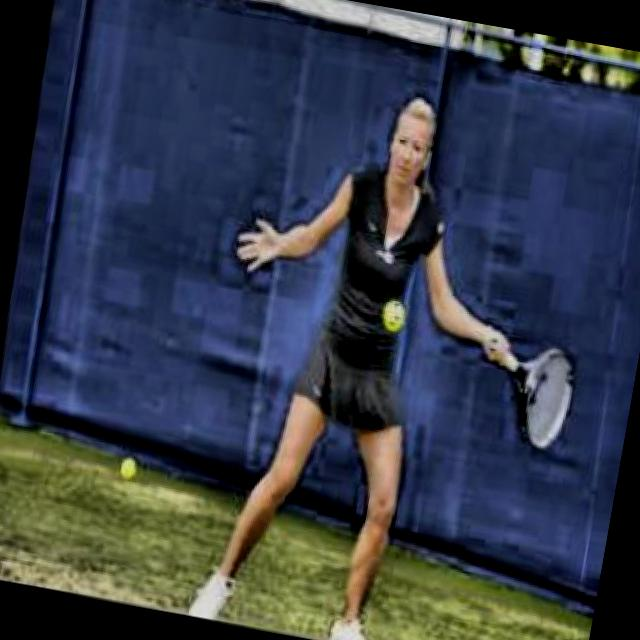Tennis Ball: (383, 302, 406, 330), (118, 459, 135, 482)
